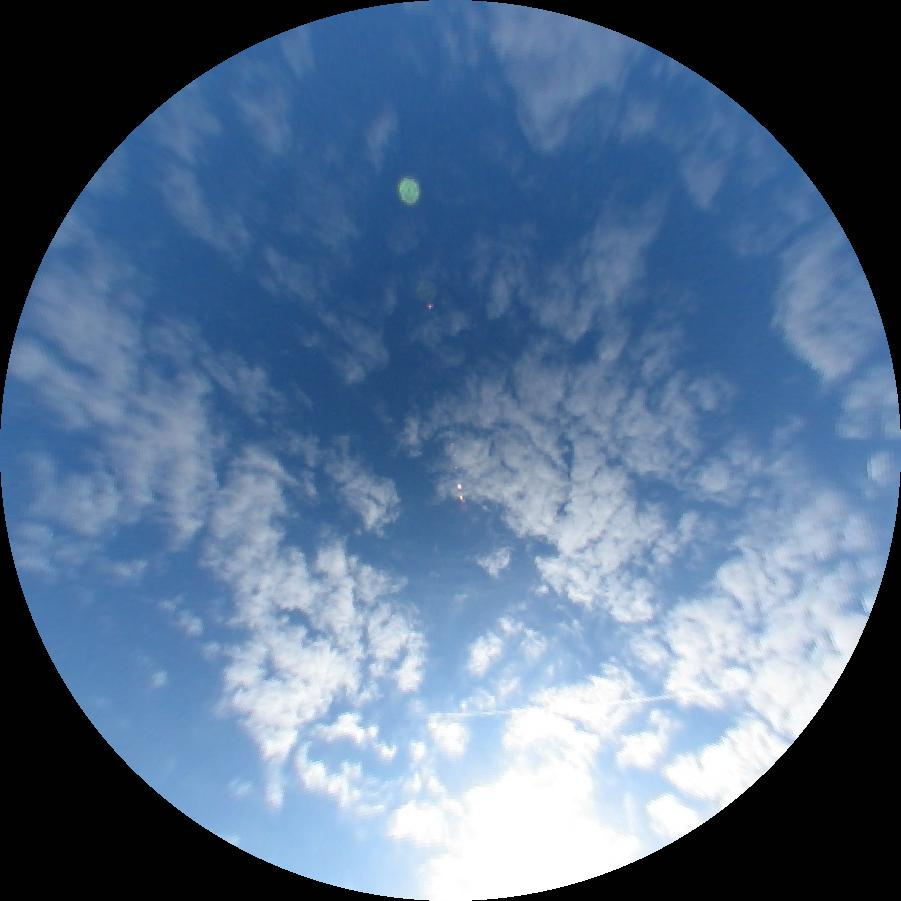contrail young: (422, 687, 737, 718)
